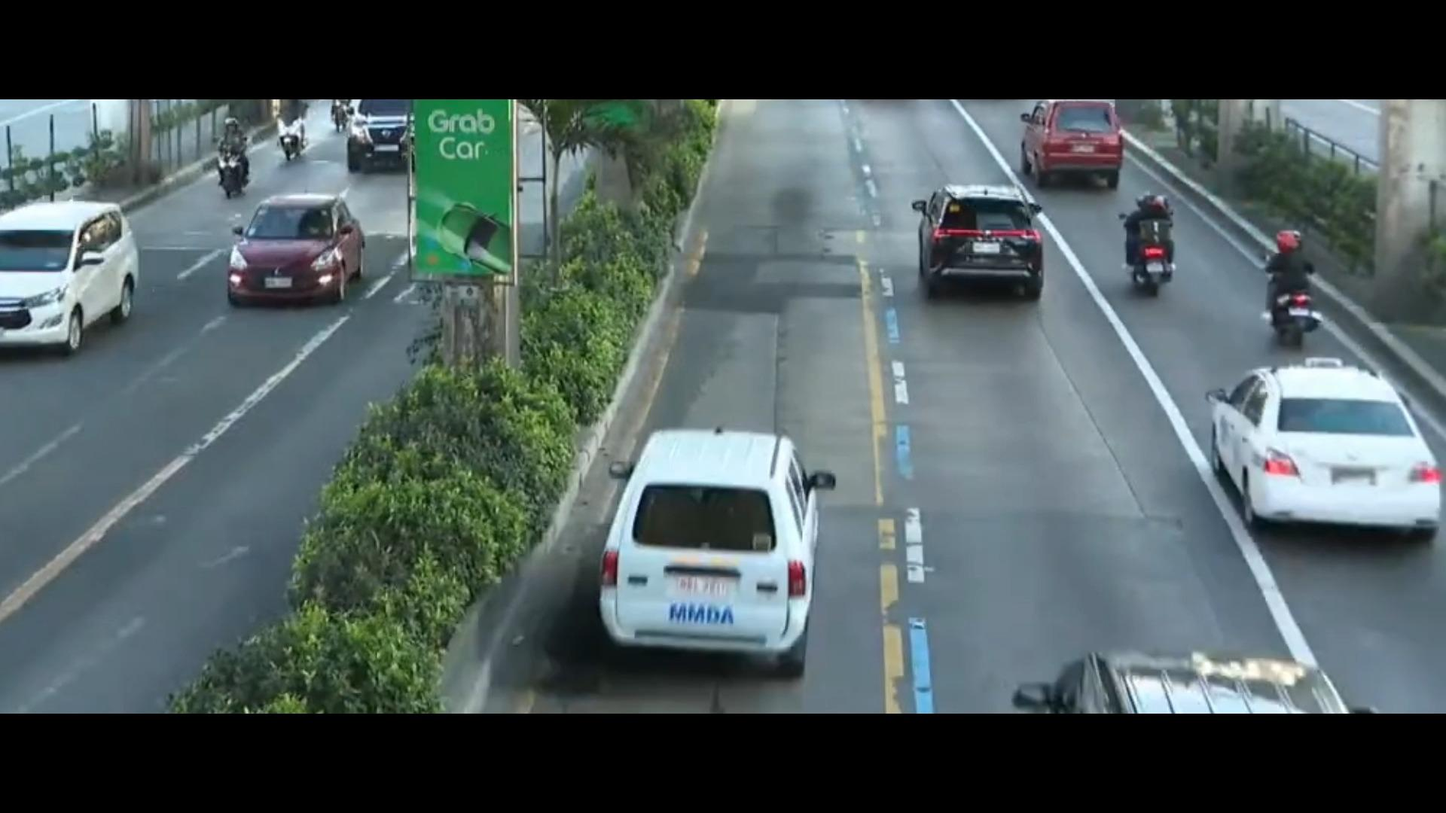Motorcycle: (1226, 204, 1359, 360), (1082, 179, 1198, 326), (187, 108, 262, 216), (258, 93, 322, 165)
SUV: (575, 427, 862, 675), (893, 161, 1060, 318), (0, 194, 141, 364), (1001, 96, 1125, 192), (342, 101, 417, 184)
Sedan: (1183, 344, 1446, 561), (212, 174, 372, 326)
